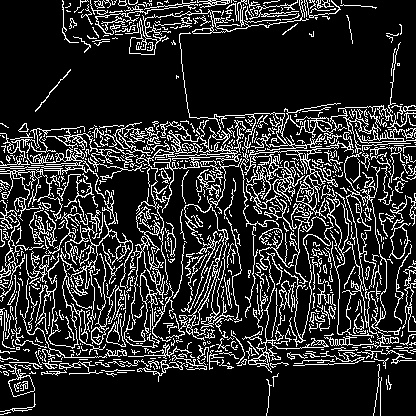buddha-standing: (58, 168, 212, 248)
